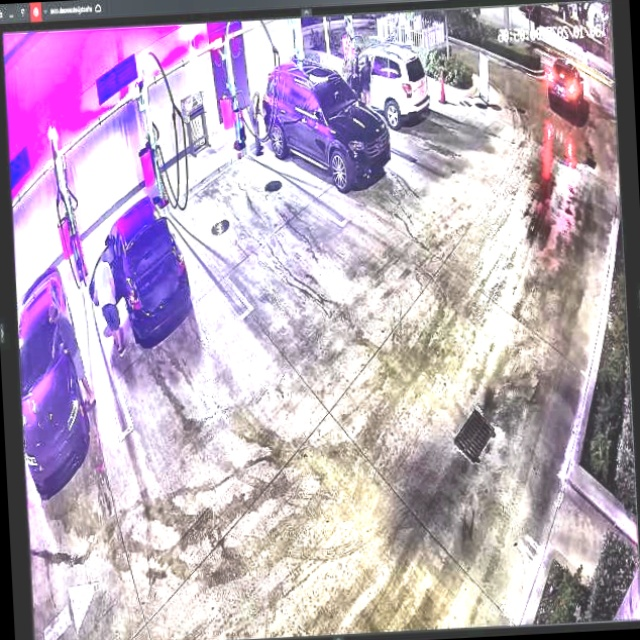Car: (260, 54, 393, 195), (84, 195, 200, 335)
